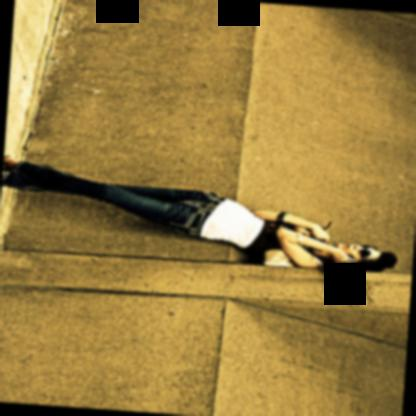handbag: (259, 249, 296, 268)
